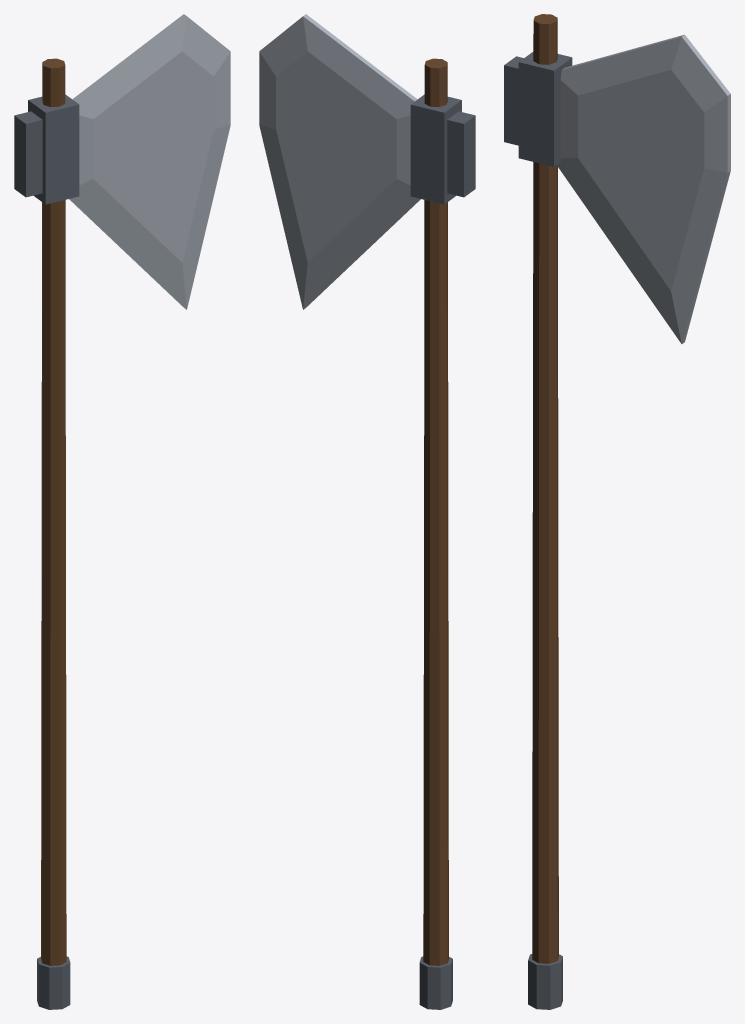
Rendered from g-greataxe.glb.
The picture shows the model from 3 angles, left to right: view 1: azimuth 30°, elevation 25°; view 2: azimuth 150°, elevation 25°; view 3: azimuth 330°, elevation 25°; orthographic projection. The views are drawn at different scales.
Visible parts, largest first — view 1: g-greataxe; view 2: g-greataxe; view 3: g-greataxe.
Boxes of the visible parts, x1,y1,x2,y2 form: g-greataxe: (14,14,230,1009); g-greataxe: (259,14,475,1009); g-greataxe: (504,14,730,1009).
Bounding box in the file's own units: 0.31 × 1.35 × 0.045.
